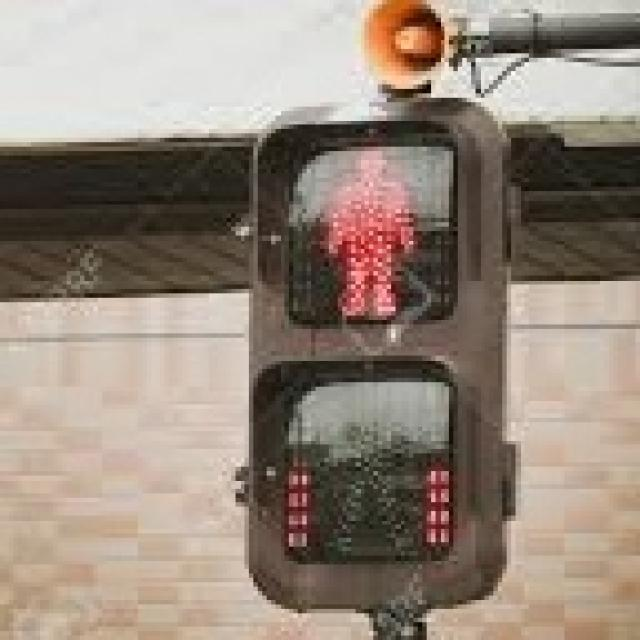red-crossing: (298, 120, 432, 324)
